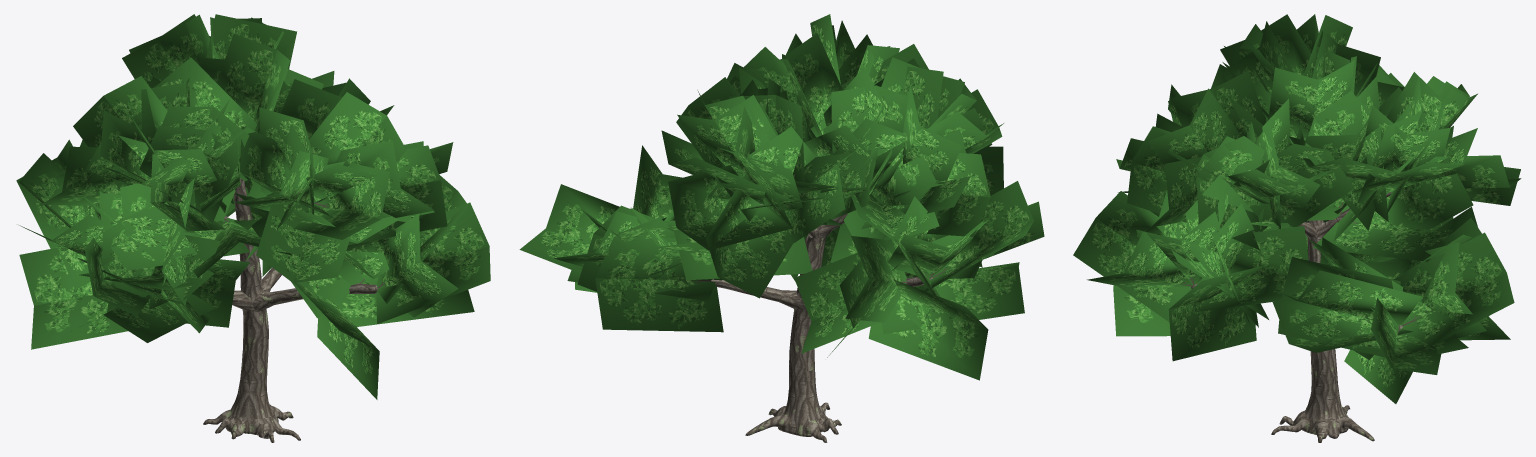
Rendered from environment_elm1_v56.fbx.
3 renders of one model, left to right at view 1: azimuth 30°, elevation 25°; view 2: azimuth 150°, elevation 25°; view 3: azimuth 270°, elevation 25°, orthographic. The views are drawn at different scales.
Parts seen in each view (by area): view 1: environment_elm1_v56_lod0; view 2: environment_elm1_v56_lod0; view 3: environment_elm1_v56_lod0.
Part boxes in pixels (bbox=[...]): environment_elm1_v56_lod0: bbox=[16, 14, 490, 442]; environment_elm1_v56_lod0: bbox=[519, 14, 1044, 442]; environment_elm1_v56_lod0: bbox=[1073, 14, 1521, 442].
Size of what is drawn, in the model's own units: 2930 by 2300 by 2558.
Materials: 2 (2 with a texture image).
